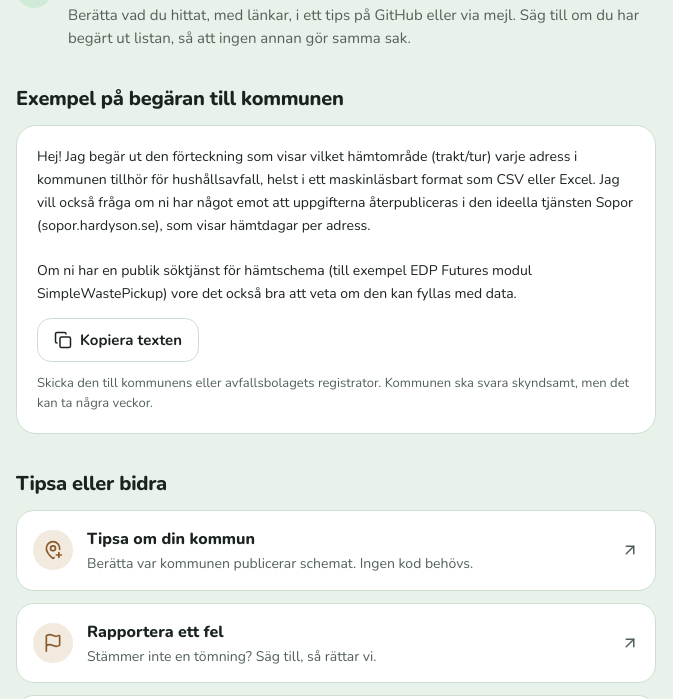
Test case: BidraPage › markerar texten så att man kan kopiera själv när urklipp inte går
(page scrolled)
Click the button "Kopiera texten".
click(118, 340)  # box 37,318 -> 199,362
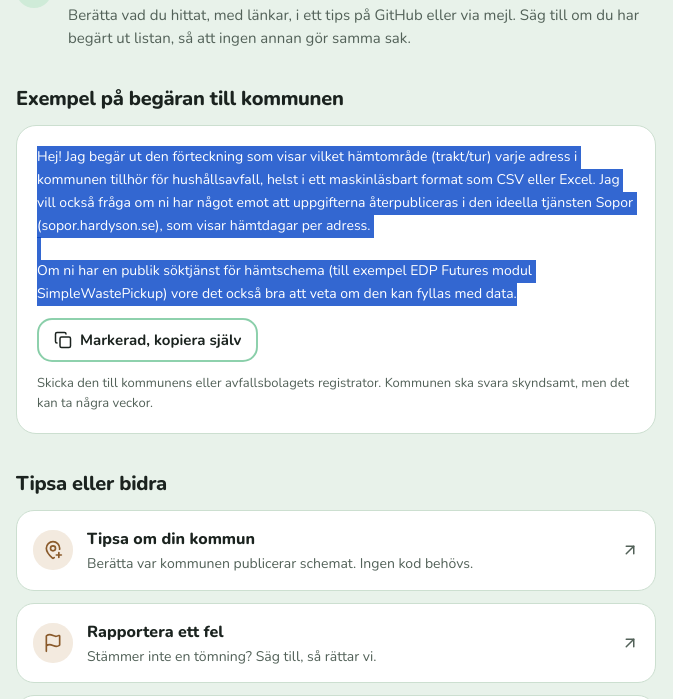
Result: the button "Markerad, kopiera själv" is shown at 37,318 -> 258,362
